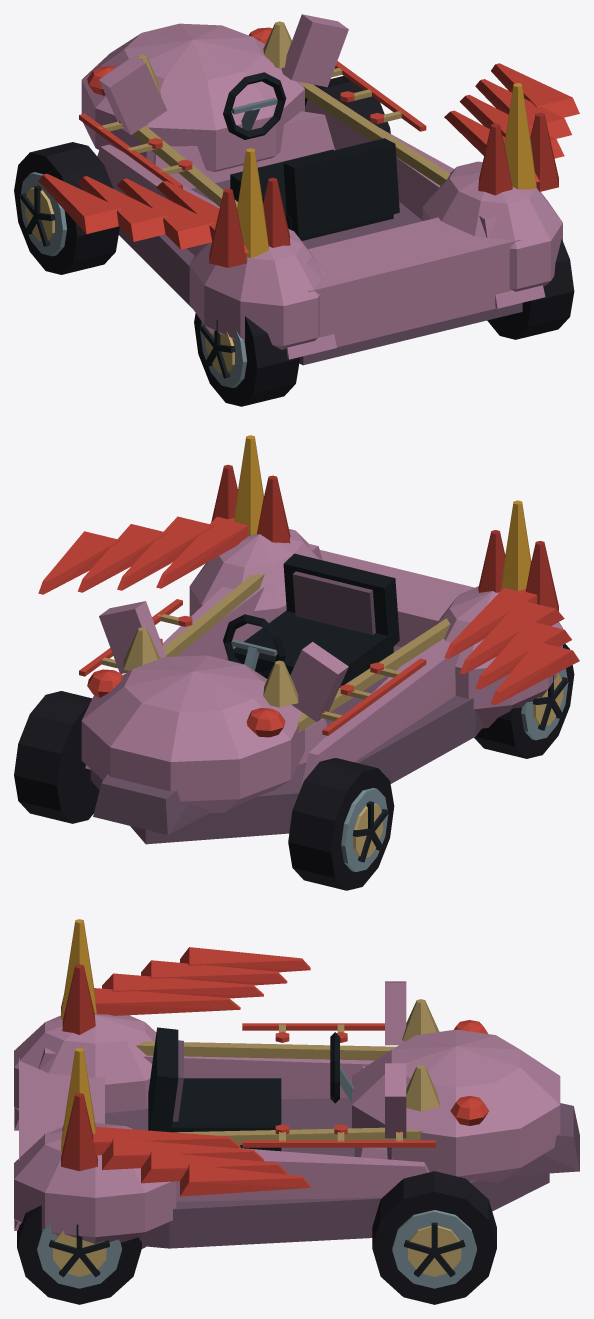
The model's file is kart.glb.
3 renders of one model, top to bottom at view 1: azimuth 30°, elevation 25°; view 2: azimuth 150°, elevation 25°; view 3: azimuth 270°, elevation 25°, orthographic.
Parts seen in each view (by area): view 1: identity-beast-beast-sculpted-prow-and-haunches, identity-beast-motif-wings-feather, identity-beast-driver-cockpit, identity-beast-motif-fire, wheel-front-left, wheel-rear-left, wheel-rear-right, identity-beast-motif-circuit, wheel-front-right; view 2: identity-beast-beast-sculpted-prow-and-haunches, identity-beast-motif-wings-feather, identity-beast-driver-cockpit, wheel-front-left, identity-beast-motif-fire, wheel-front-right, wheel-rear-left, identity-beast-motif-circuit; view 3: identity-beast-beast-sculpted-prow-and-haunches, identity-beast-motif-wings-feather, wheel-front-right, identity-beast-driver-cockpit, wheel-rear-right, identity-beast-motif-fire, identity-beast-motif-circuit.
Part boxes in pixels (x1=…): identity-beast-beast-sculpted-prow-and-haunches: x1=81, y1=14, x2=562, y2=365; identity-beast-motif-wings-feather: x1=38, y1=63, x2=579, y2=253; identity-beast-driver-cockpit: x1=223, y1=72, x2=399, y2=240; identity-beast-motif-fire: x1=209, y1=83, x2=558, y2=267; wheel-front-left: x1=14, y1=142, x2=119, y2=274; wheel-rear-left: x1=194, y1=313, x2=299, y2=406; wheel-rear-right: x1=487, y1=239, x2=574, y2=339; identity-beast-motif-circuit: x1=79, y1=61, x2=426, y2=188; wheel-front-right: x1=305, y1=76, x2=390, y2=133; identity-beast-beast-sculpted-prow-and-haunches: x1=81, y1=529, x2=562, y2=844; identity-beast-motif-wings-feather: x1=38, y1=516, x2=579, y2=704; identity-beast-driver-cockpit: x1=223, y1=553, x2=399, y2=687; wheel-front-left: x1=288, y1=758, x2=394, y2=890; identity-beast-motif-fire: x1=211, y1=435, x2=558, y2=611; wheel-front-right: x1=14, y1=691, x2=99, y2=823; wheel-rear-left: x1=474, y1=644, x2=574, y2=758; identity-beast-motif-circuit: x1=79, y1=599, x2=426, y2=735; identity-beast-beast-sculpted-prow-and-haunches: x1=14, y1=981, x2=579, y2=1248; identity-beast-motif-wings-feather: x1=63, y1=947, x2=310, y2=1196; wheel-front-right: x1=372, y1=1171, x2=496, y2=1304; identity-beast-driver-cockpit: x1=148, y1=1027, x2=353, y2=1151; wheel-rear-right: x1=17, y1=1205, x2=141, y2=1304; identity-beast-motif-fire: x1=61, y1=919, x2=97, y2=1171; identity-beast-motif-circuit: x1=242, y1=1023, x2=435, y2=1147.
Bounding box in the file's own units: 2.88 × 1.37 × 2.9.
